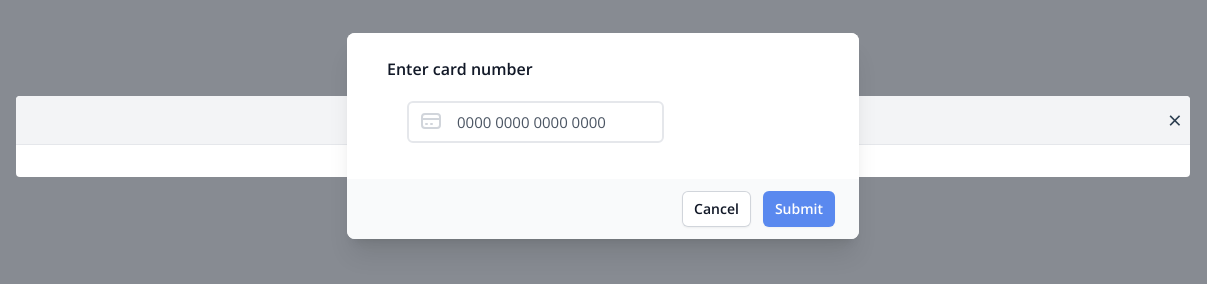
Test case: AddCardPopup › Should render error message when user input invalid number card length
Type "12345543123" into the field with placeholder "0000 0000 0000 0000" at (536, 122), box [407, 101, 664, 143]
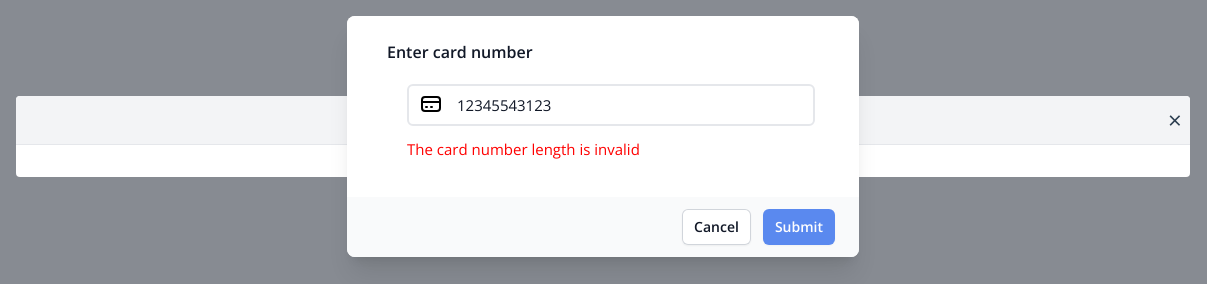
Result: the text "The card number length is invalid" is shown at [407, 138, 640, 160]
Result: the text with class "error-message" reads "The card number length is invalid" at [407, 139, 640, 159]
